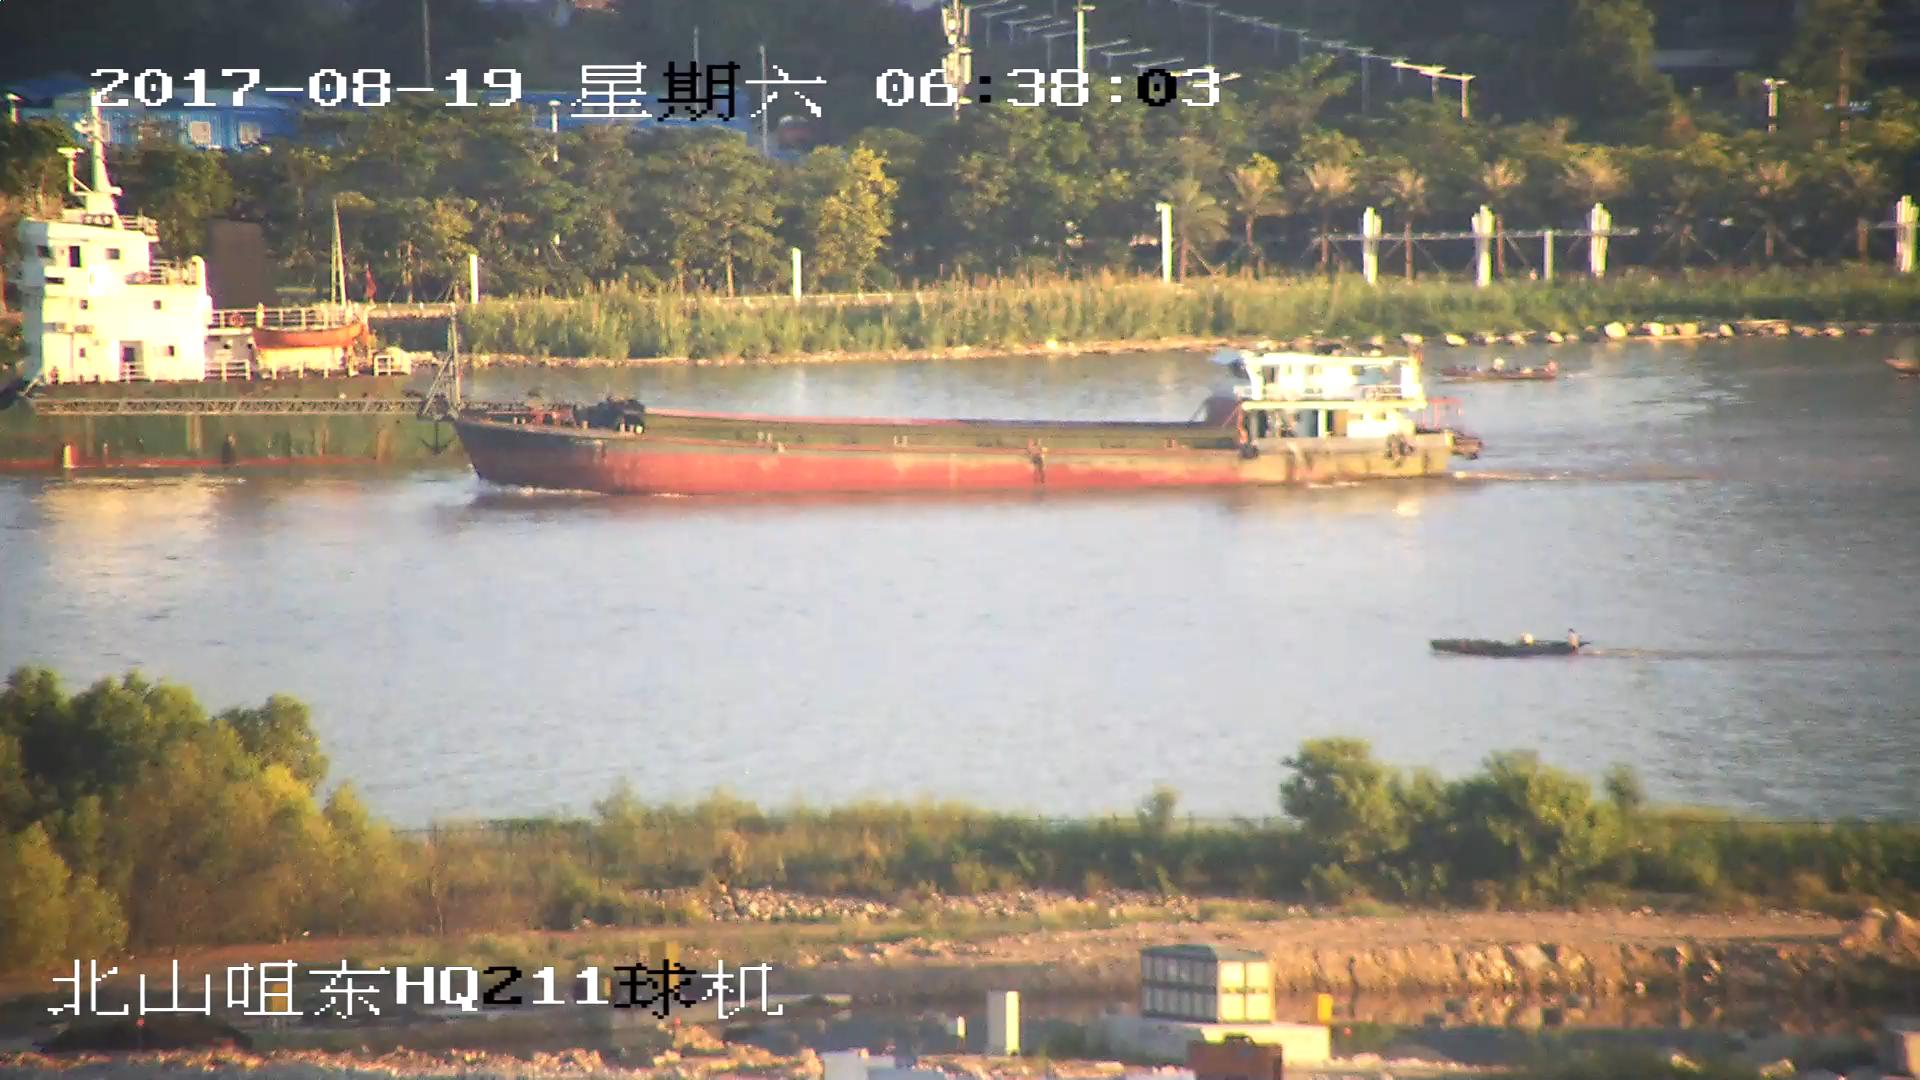bulk cargo carrier: (441, 345, 1475, 490)
fishing boat: (1434, 629, 1592, 660), (1445, 362, 1562, 388)
general cargo ship: (1, 149, 436, 469)
